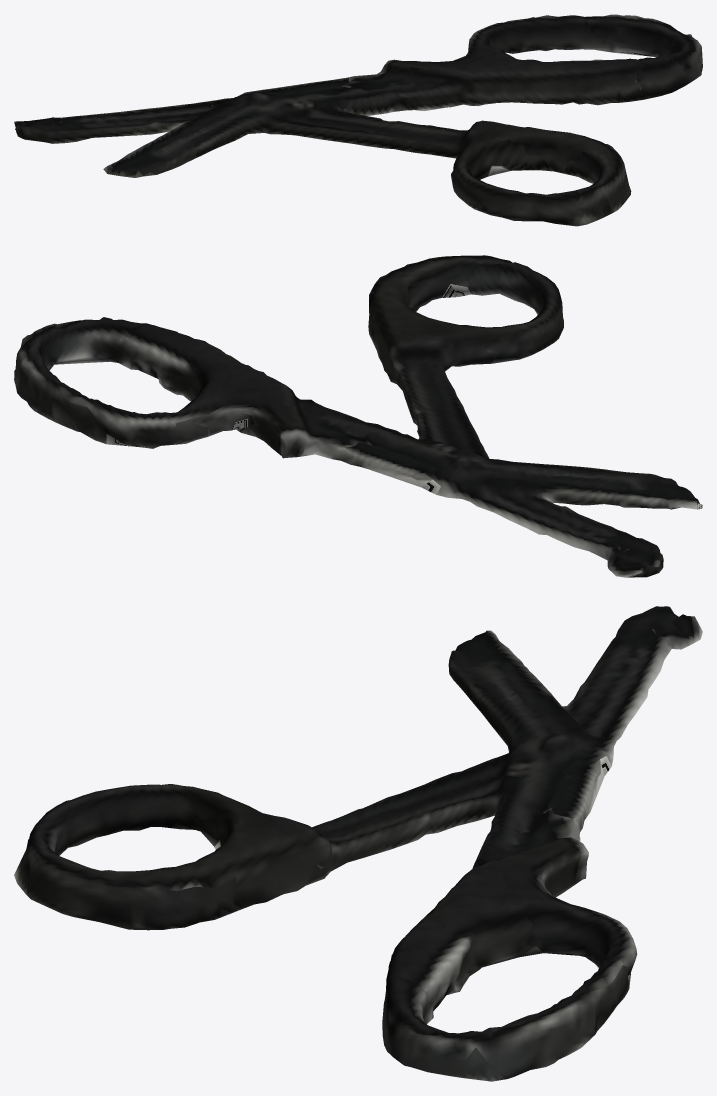
File: scissors.glb
3 views of the same model, one above another, from view 1: azimuth 30°, elevation 25°; view 2: azimuth 150°, elevation 25°; view 3: azimuth 270°, elevation 25° (orthographic). The views are drawn at different scales.
Parts seen in each view (by area): view 1: Model; view 2: Model; view 3: Model.
Boxes of the visible parts, x1=… form: Model: x1=14, y1=14, x2=702, y2=226; Model: x1=14, y1=255, x2=702, y2=577; Model: x1=14, y1=606, x2=702, y2=1081.
Bounding box in the file's own units: 9.3 × 0.7122 × 6.27.
Materials: 1 (1 with a texture image).
